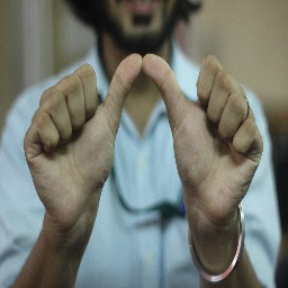A: (35, 48, 245, 196)
